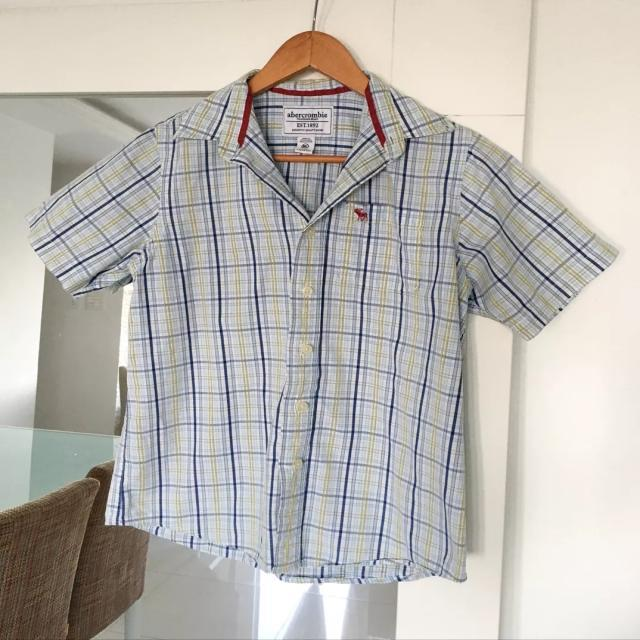short sleeve shirt: (27, 65, 622, 587)
